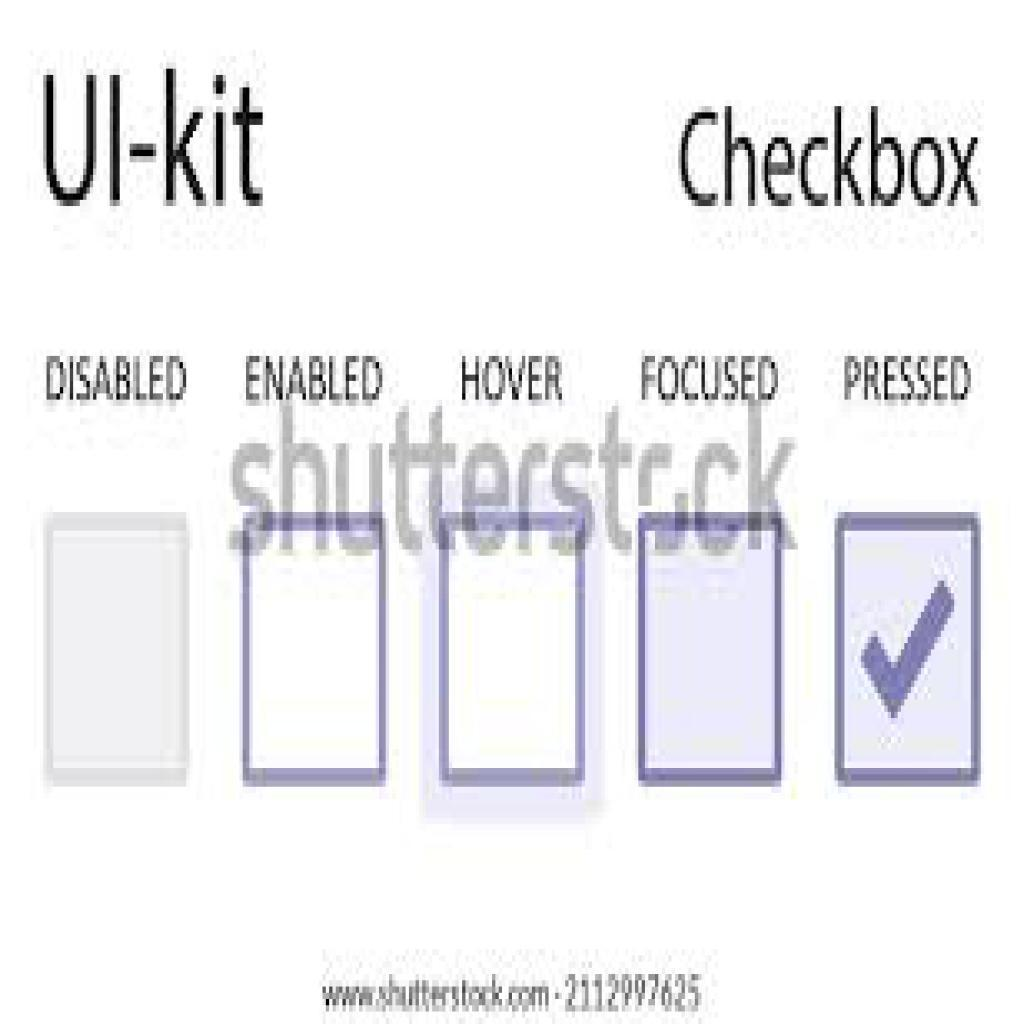checkbox: (639, 516, 780, 782), (836, 516, 978, 779), (45, 523, 189, 781), (446, 521, 583, 784), (245, 519, 384, 778)
label: (43, 351, 195, 411), (242, 346, 387, 406), (841, 347, 975, 411), (635, 349, 783, 406), (460, 352, 570, 408)
